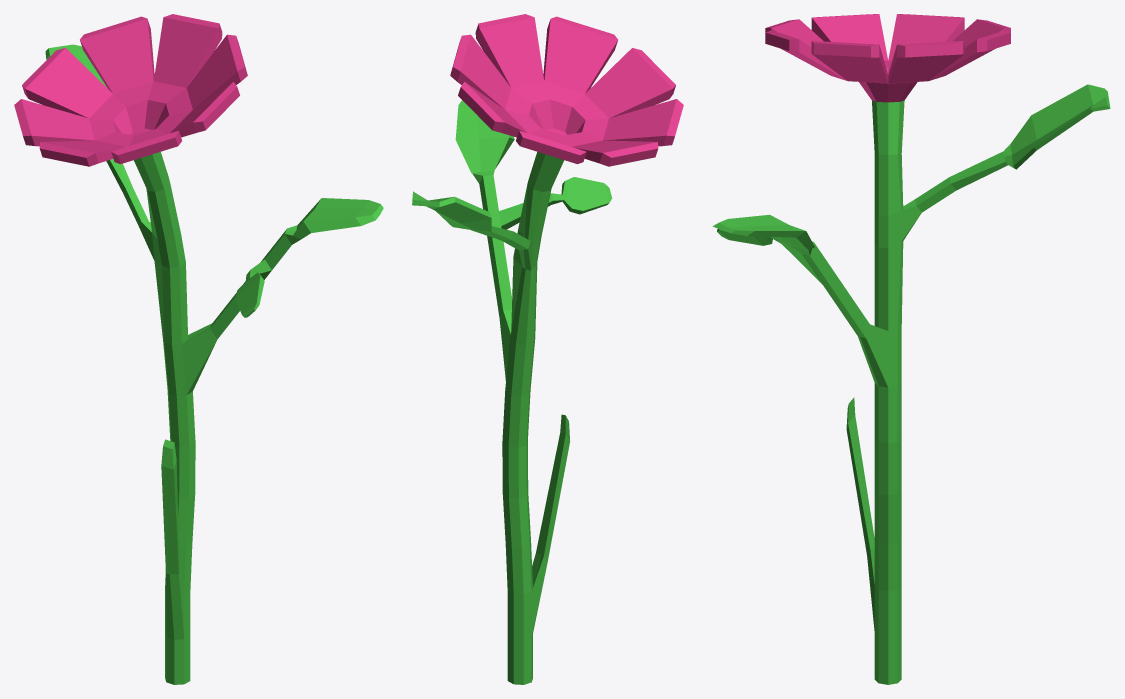
Rendered from flower_purple.glb.
3 renders of one model, left to right at view 1: azimuth 30°, elevation 25°; view 2: azimuth 150°, elevation 25°; view 3: azimuth 270°, elevation 25°, orthographic. The views are drawn at different scales.
Visible parts, largest first — view 1: flower1; view 2: flower1; view 3: flower1.
Boxes of the visible parts, x1,y1,x2,y2 form: flower1: [14, 14, 383, 684]; flower1: [412, 14, 683, 684]; flower1: [713, 14, 1110, 684].
Size of the model in its own units: 0.4038 by 0.8903 by 0.4879.
